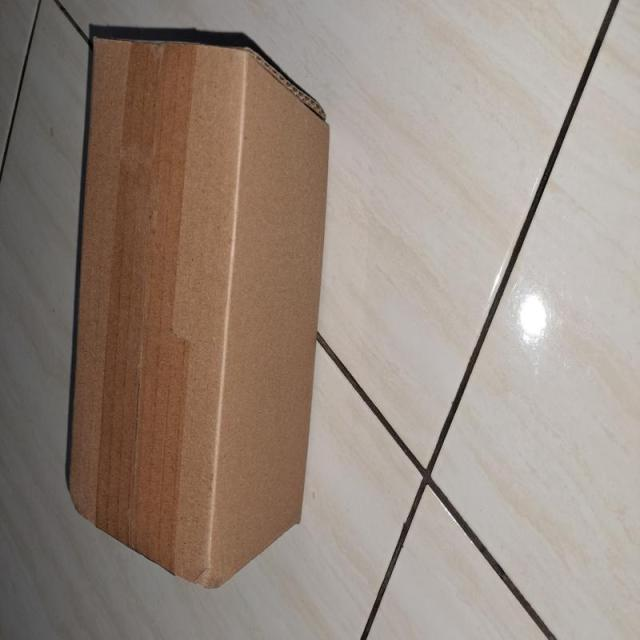Organik: (57, 16, 314, 580)
